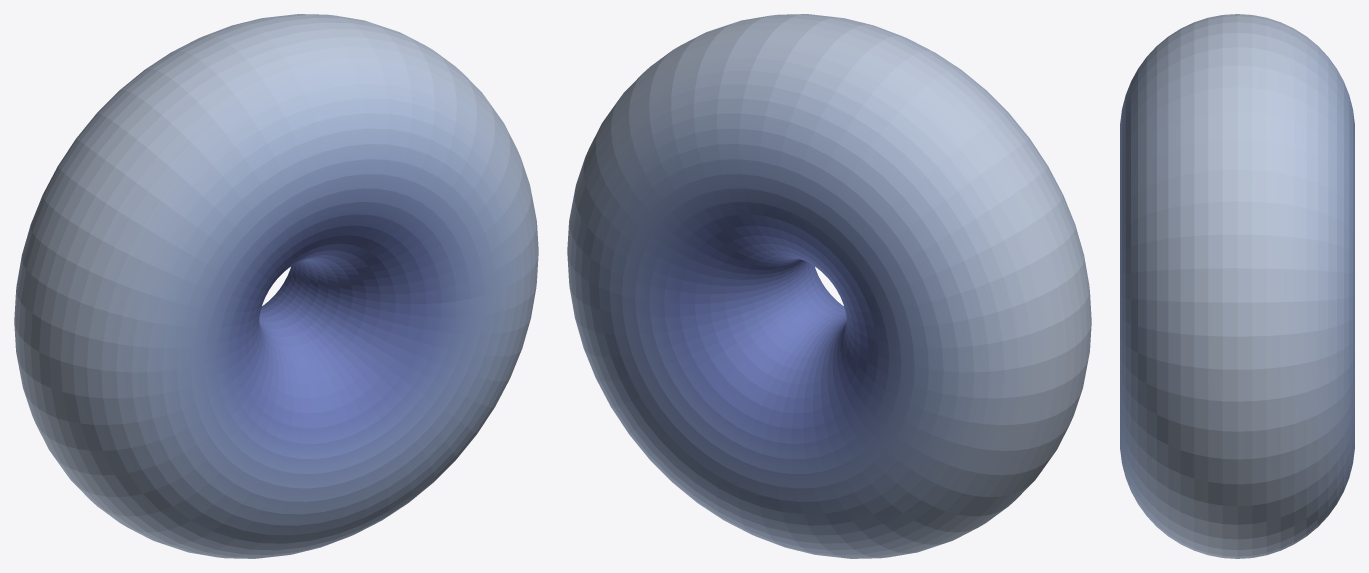
3 renders of one model, left to right at view 1: azimuth 30°, elevation 25°; view 2: azimuth 150°, elevation 25°; view 3: azimuth 270°, elevation 25°, orthographic. The views are drawn at different scales.
Visible parts, largest first — view 1: world; view 2: world; view 3: world.
Boxes of the visible parts, x1,y1,x2,y2 form: world: (14, 14, 538, 558); world: (567, 14, 1091, 558); world: (1120, 14, 1354, 558).
Size of the model in its own units: 17.6 by 17.57 by 7.59.
